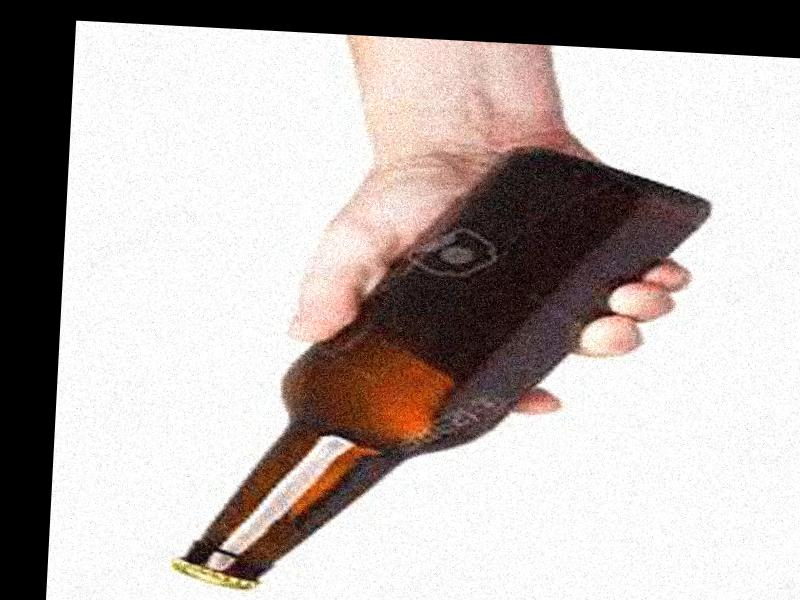Beer: (169, 131, 708, 600)
